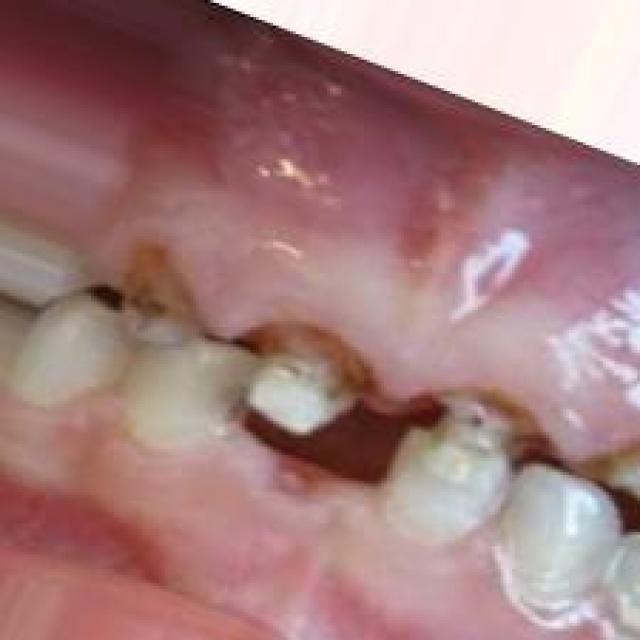caries: (382, 377, 543, 545), (227, 312, 366, 438), (109, 233, 210, 367)
